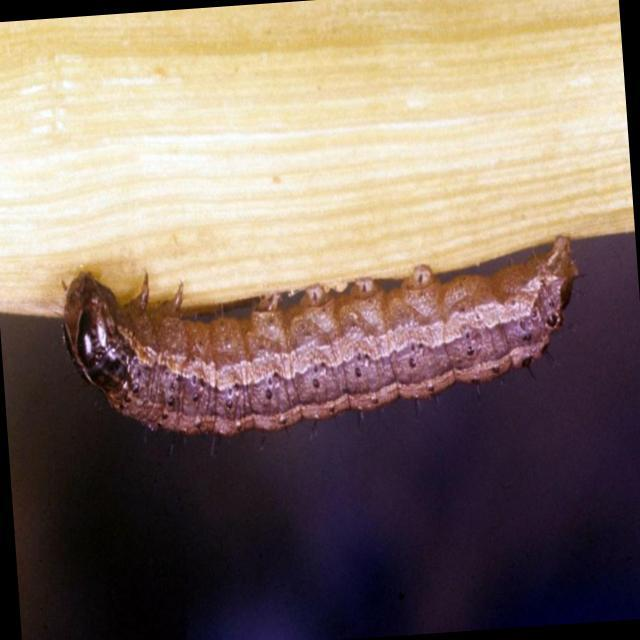Plaga: (42, 200, 604, 480)
